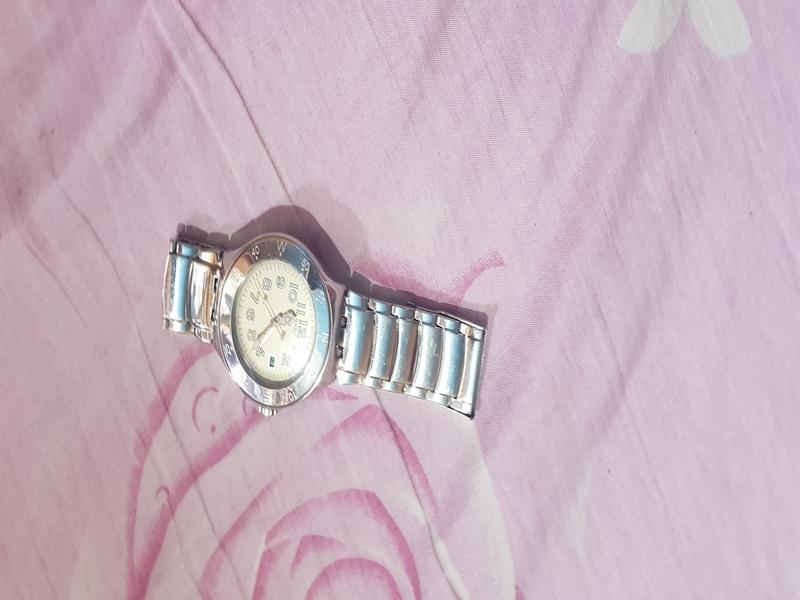watch: (134, 187, 539, 468)
